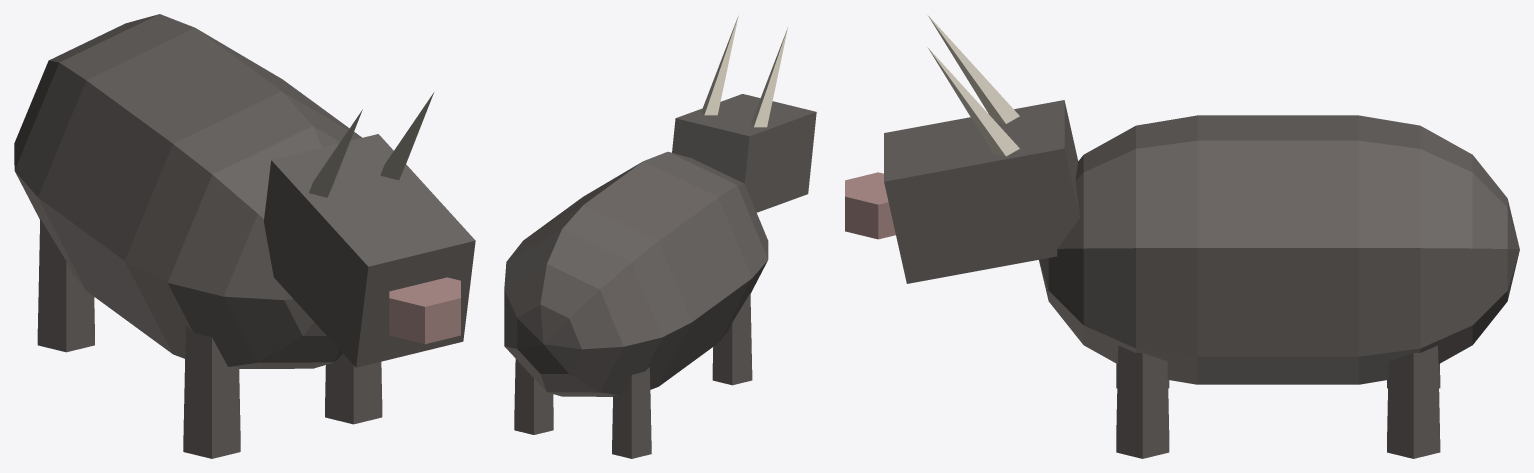
Rendered from babi.glb.
3 views of the same model, side by side, from view 1: azimuth 30°, elevation 25°; view 2: azimuth 150°, elevation 25°; view 3: azimuth 270°, elevation 25° (orthographic). The views are drawn at different scales.
Visible parts, largest first — view 1: kbs_babi, object 2; view 2: kbs_babi, object 2; view 3: kbs_babi, object 2.
Part boxes in pixels (box(x1,y1,x2,y2)): kbs_babi: box(14, 14, 382, 458); object 2: box(264, 92, 475, 367); kbs_babi: box(504, 151, 768, 458); object 2: box(672, 15, 816, 212); kbs_babi: box(1039, 115, 1519, 458); object 2: box(845, 15, 1079, 283).
Bounding box in the file's own units: 0.4964 × 0.8 × 1.28.
